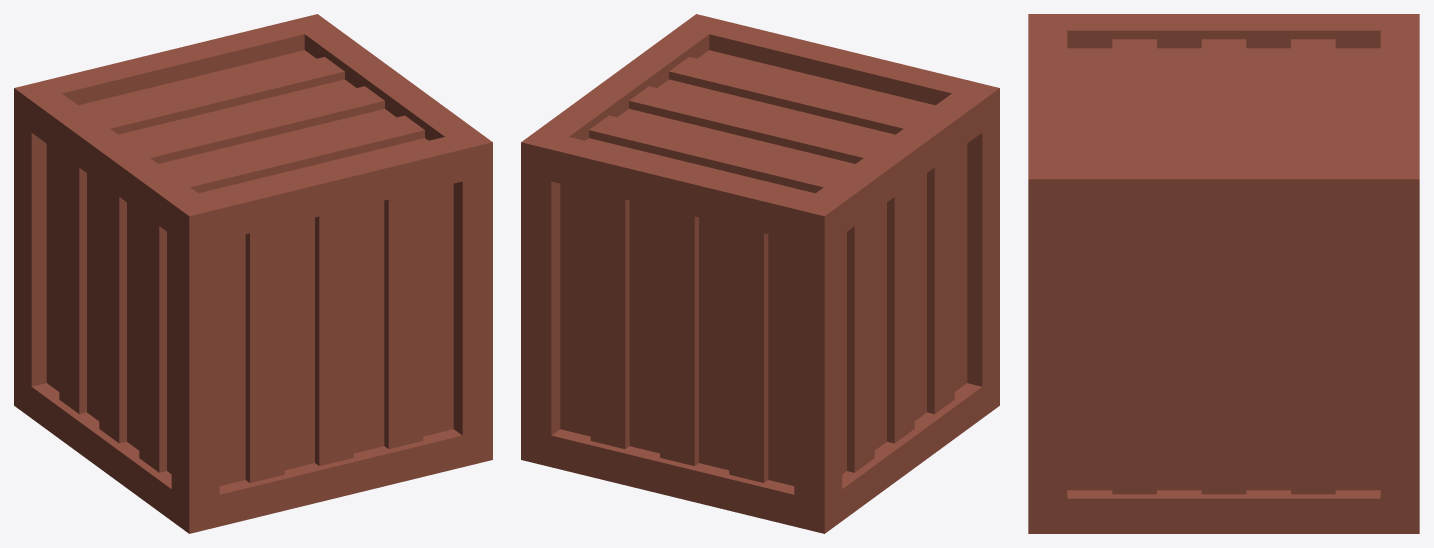
Rendered from Crate_closed.fbx.
3 views of the same model, side by side, from view 1: azimuth 30°, elevation 25°; view 2: azimuth 150°, elevation 25°; view 3: azimuth 270°, elevation 25° (orthographic). The views are drawn at different scales.
Parts seen in each view (by area): view 1: Cube; view 2: Cube; view 3: Cube.
Part boxes in pixels (left/top/right/bottom): Cube: left=14, top=14, right=492, bottom=533; Cube: left=521, top=14, right=999, bottom=533; Cube: left=1028, top=14, right=1419, bottom=533.
Size of the model in its own units: 200 by 200 by 200.
